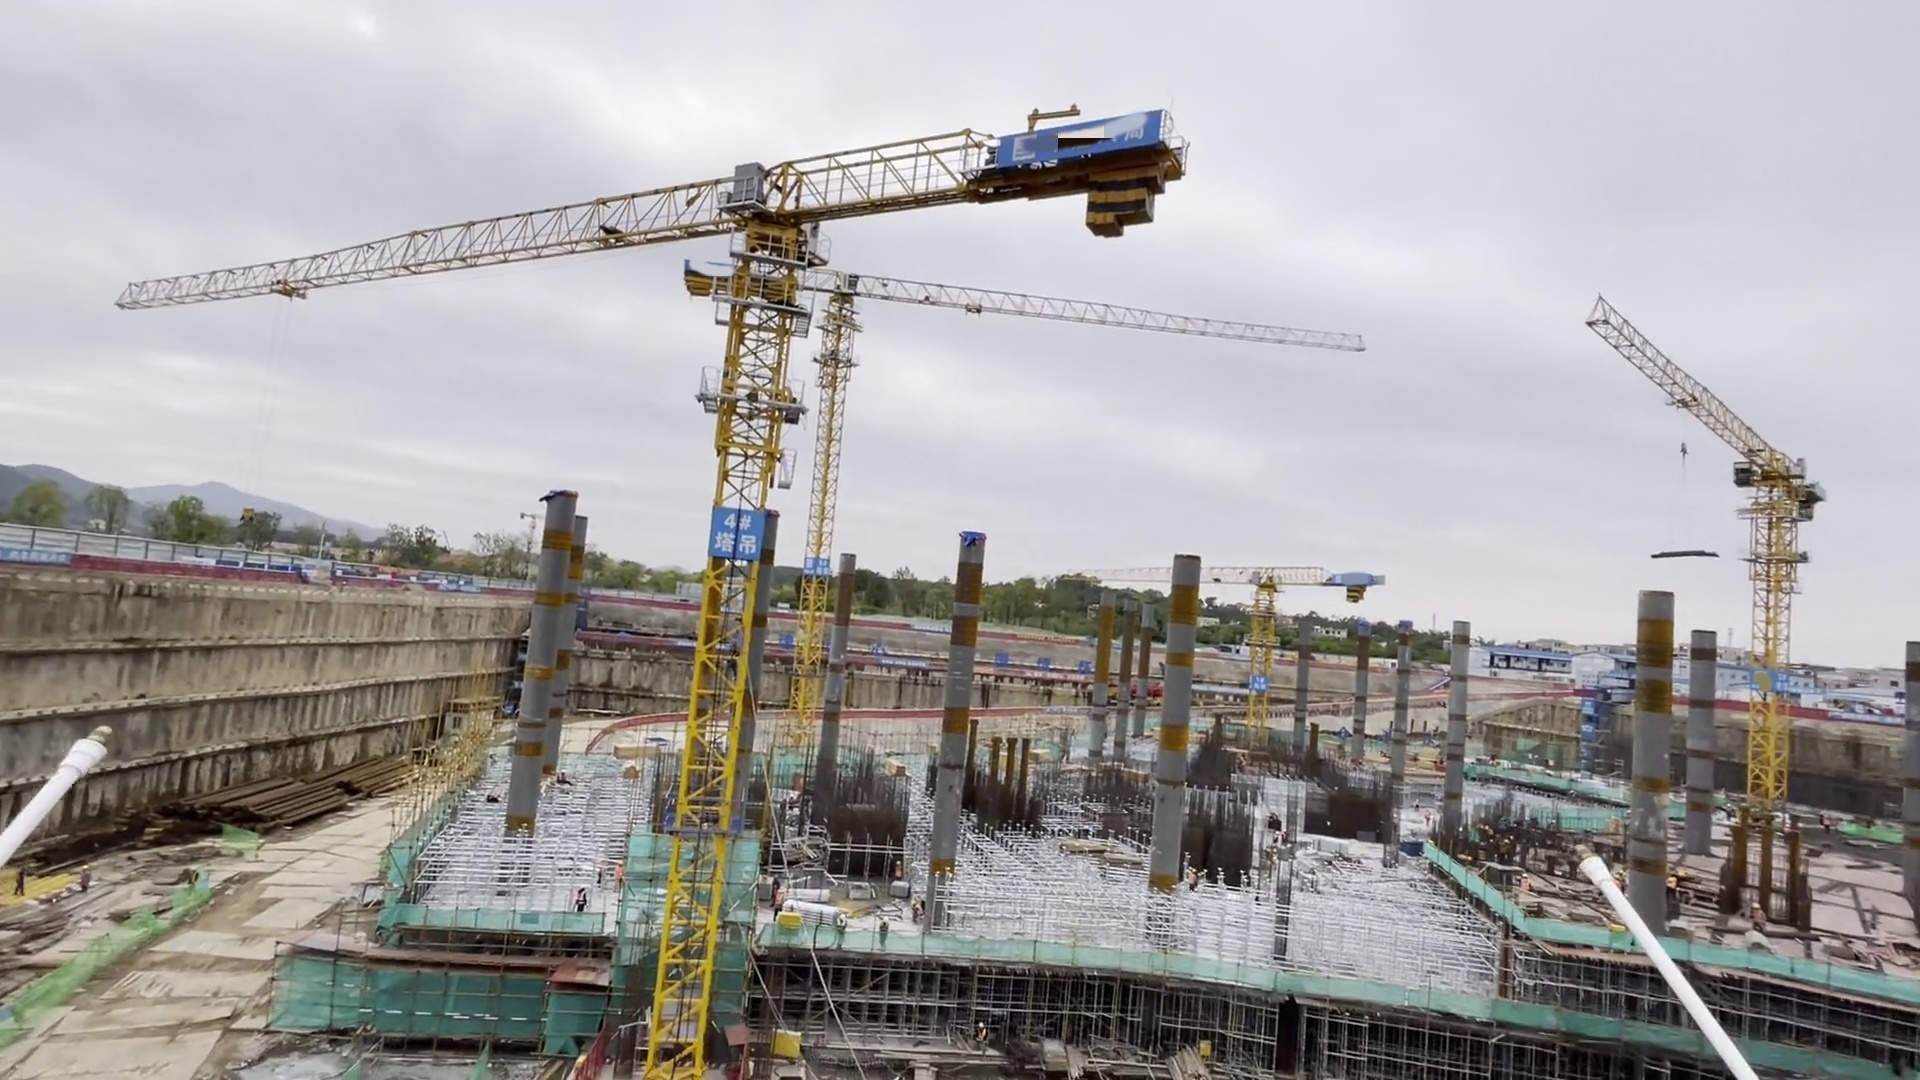hook: (240, 508, 255, 521), (1679, 444, 1687, 456)
scaffold: (789, 901, 833, 930), (785, 885, 827, 902)
